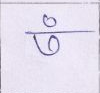anusvara: (43, 16, 56, 26)
